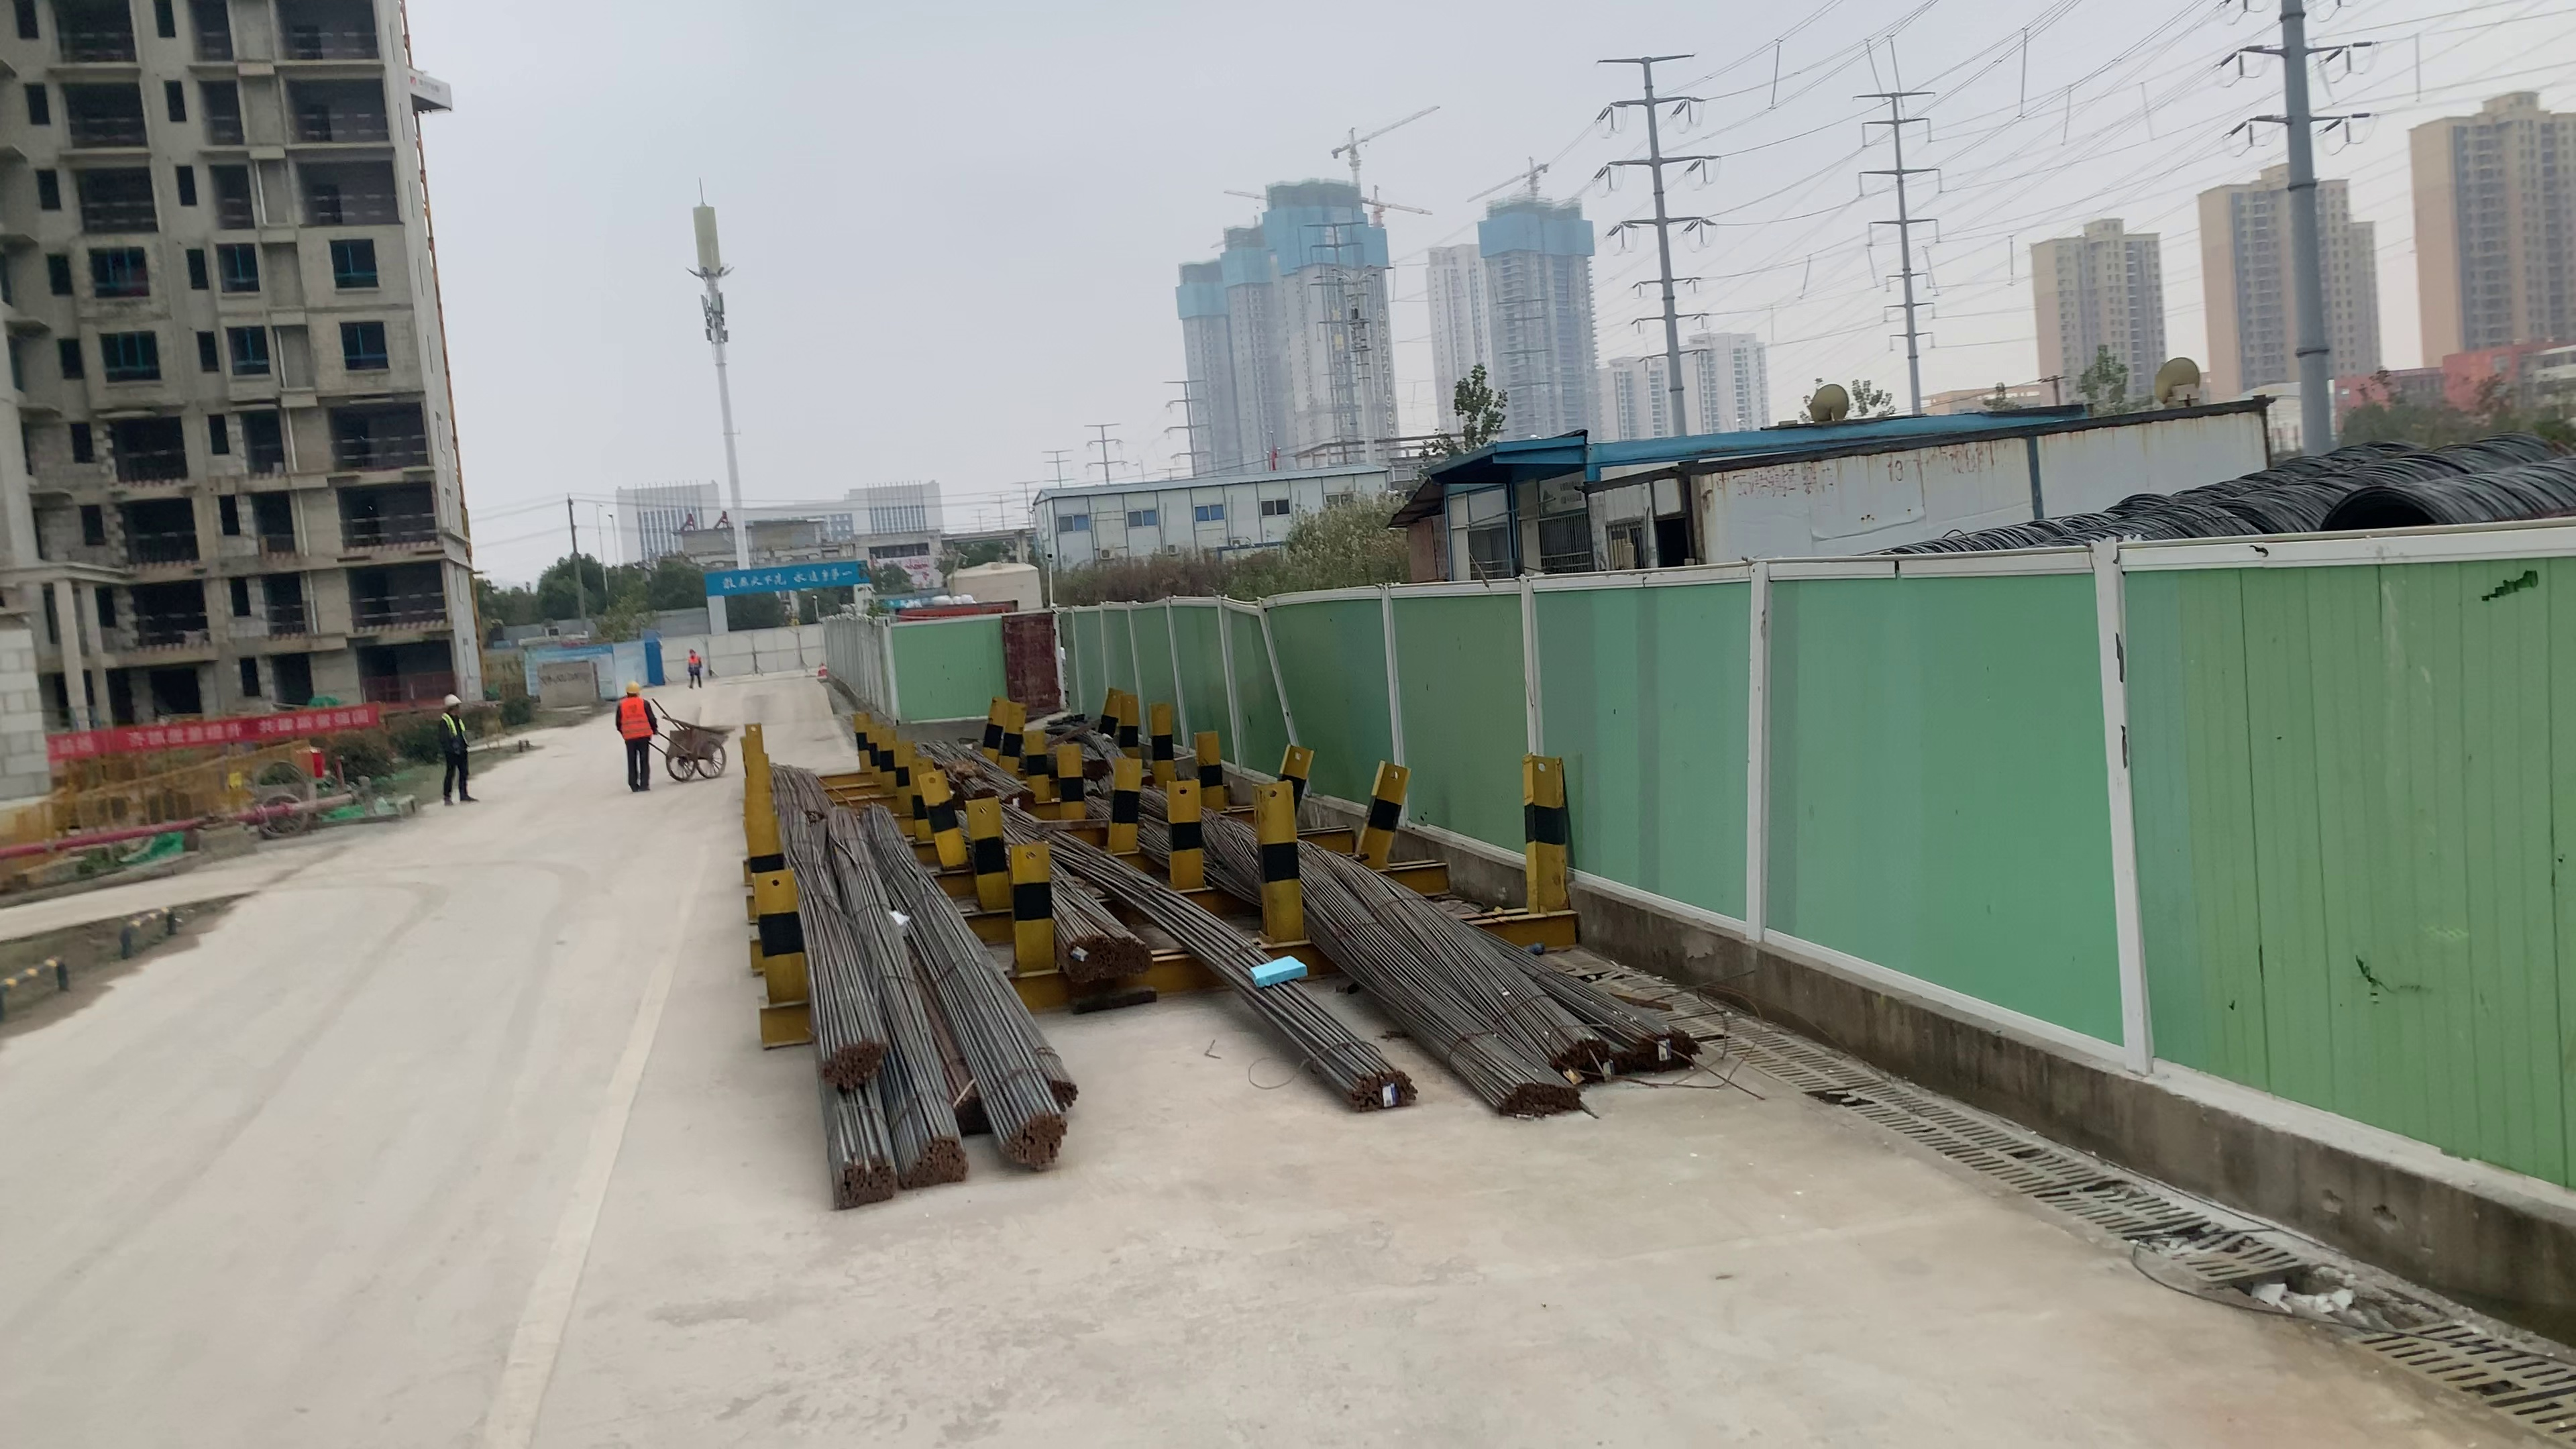rebar: (803, 1030, 886, 1099), (824, 1154, 902, 1210), (1615, 1024, 1697, 1076), (1493, 1079, 1587, 1120), (1003, 1118, 1070, 1169), (1336, 1067, 1414, 1111), (904, 1129, 964, 1185), (1555, 1035, 1610, 1079), (1060, 931, 1104, 984), (1108, 932, 1155, 980), (1044, 1072, 1083, 1115), (957, 1086, 987, 1131)
